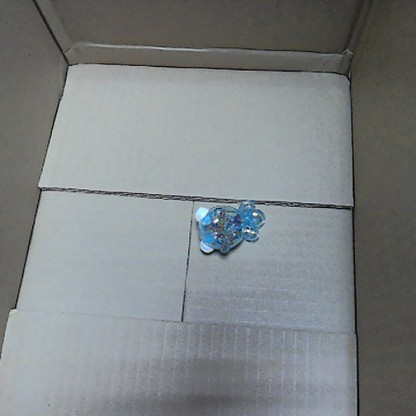bluefish: (191, 198, 264, 257)
